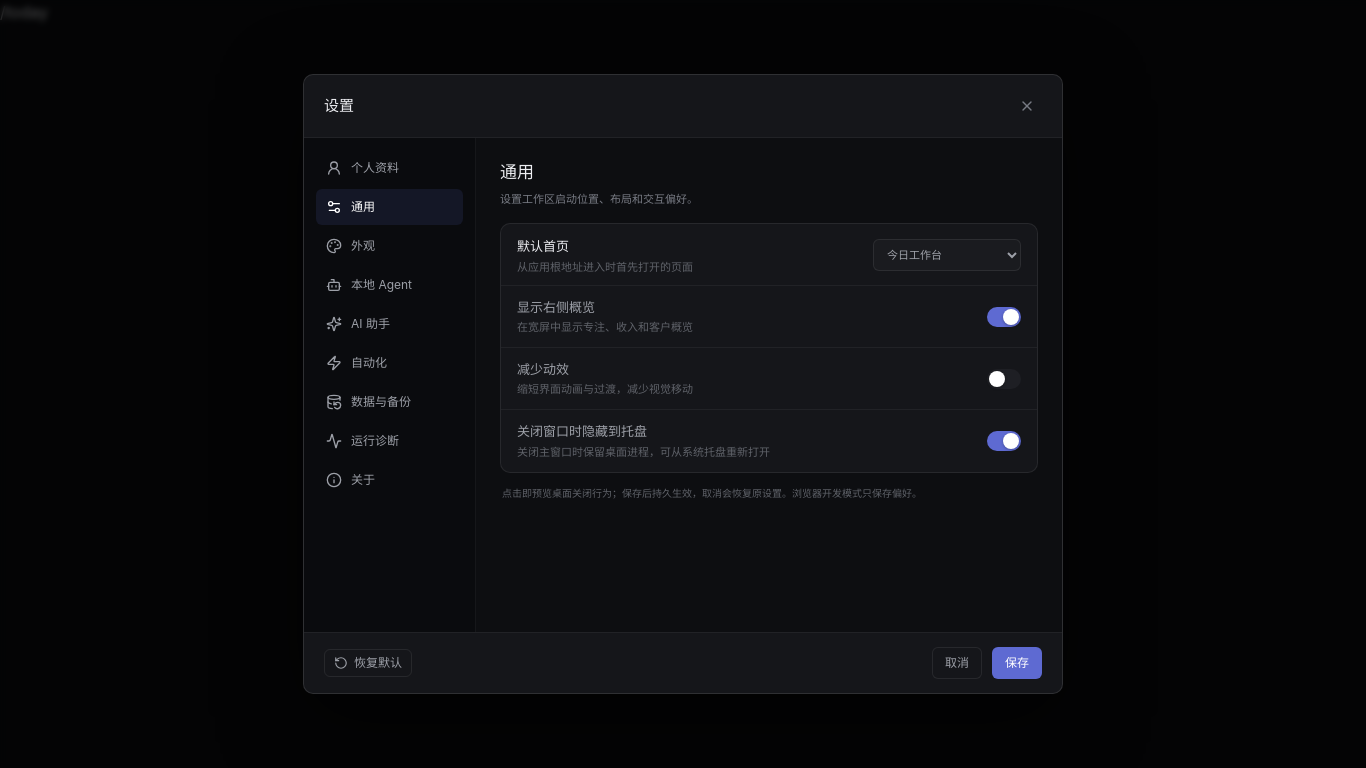
Test: SettingsModal › shows real health and version facts in the read-only About module
The width and height of the screenshot is (1366, 768).
Expected: the heading "通用" is shown, 500,162 -> 534,182
Click the button "关于".
click(390, 480)  # box 316,462 -> 463,498
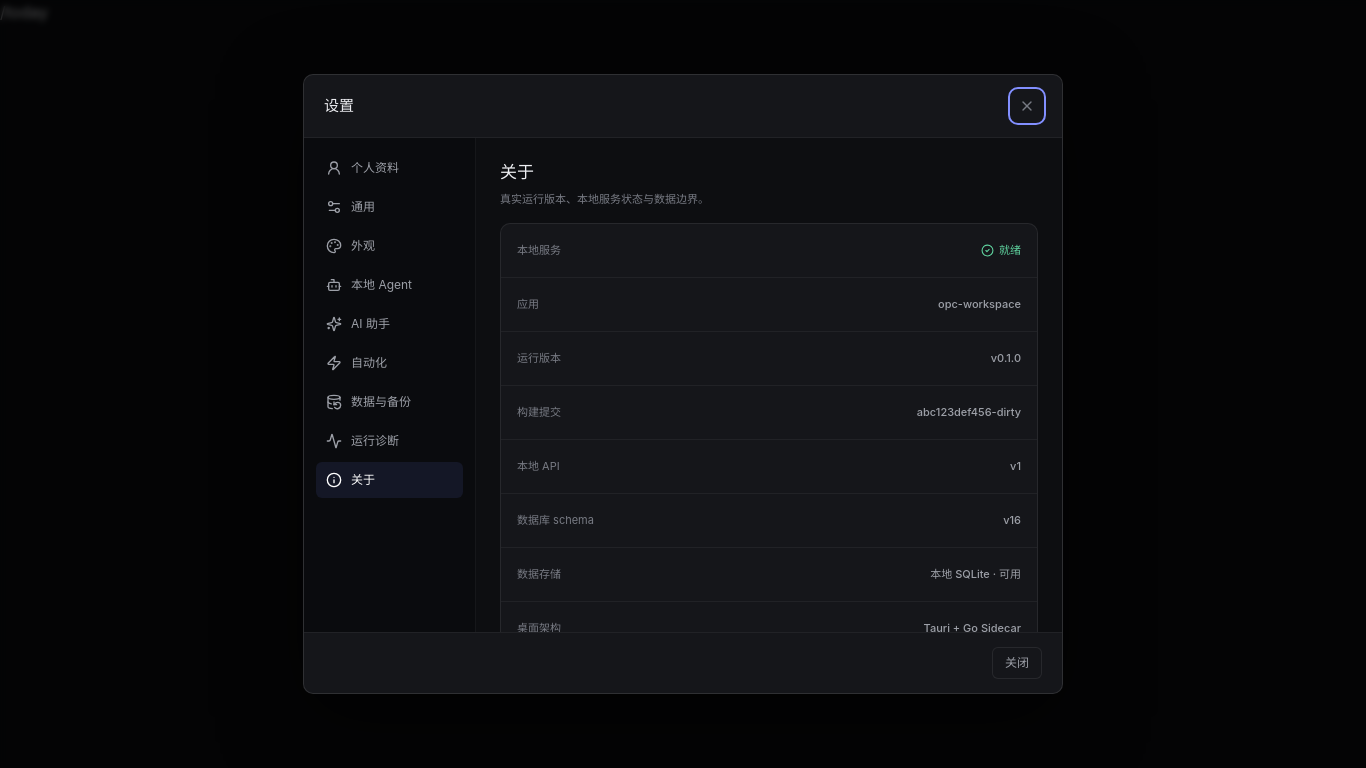
Now the text "v0.1.0" is shown, box 991,350 -> 1021,367
Now the text "opc-workspace" is shown, box 938,296 -> 1021,313
Now the text "v1" is shown, box 1010,458 -> 1021,475
